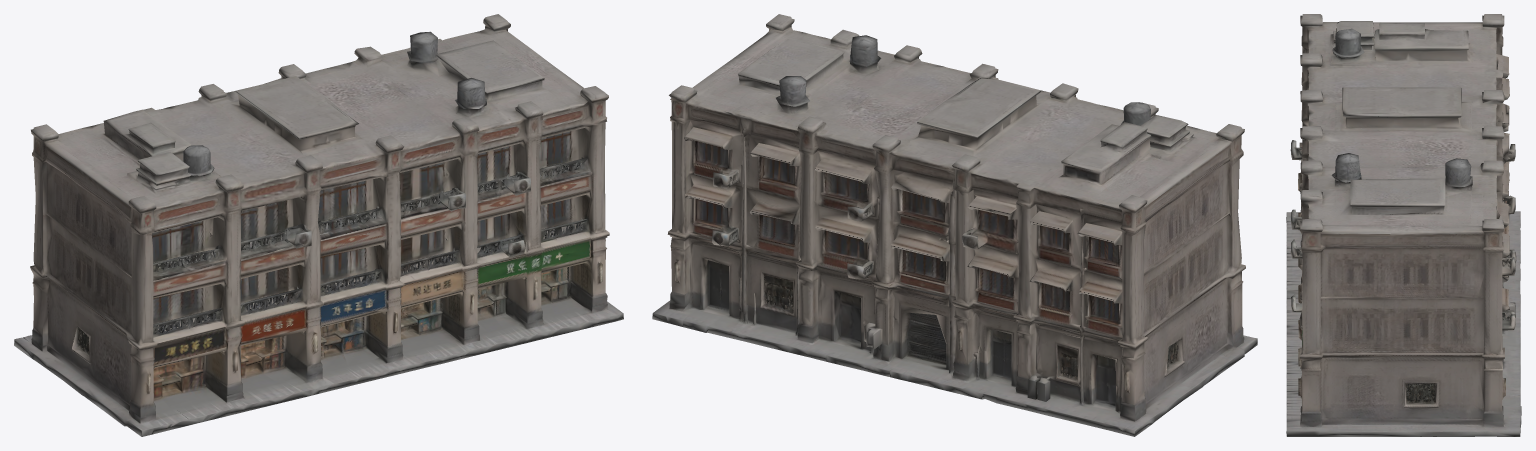
Rendered from city_building_62.glb.
3 views of the same model, side by side, from view 1: azimuth 30°, elevation 25°; view 2: azimuth 150°, elevation 25°; view 3: azimuth 270°, elevation 25° (orthographic). The views are drawn at different scales.
Visible parts, largest first — view 1: tripo_node_a3cfca79-0089-4f67-8bfe-e27906b09c0b; view 2: tripo_node_a3cfca79-0089-4f67-8bfe-e27906b09c0b; view 3: tripo_node_a3cfca79-0089-4f67-8bfe-e27906b09c0b.
Boxes of the visible parts, x1=… form: tripo_node_a3cfca79-0089-4f67-8bfe-e27906b09c0b: x1=14, y1=14, x2=623, y2=436; tripo_node_a3cfca79-0089-4f67-8bfe-e27906b09c0b: x1=652, y1=14, x2=1257, y2=436; tripo_node_a3cfca79-0089-4f67-8bfe-e27906b09c0b: x1=1286, y1=14, x2=1521, y2=436.
Size of the model in its own units: 0.9794 by 0.4738 by 0.4428.
Materials: 1 (1 with a texture image).
